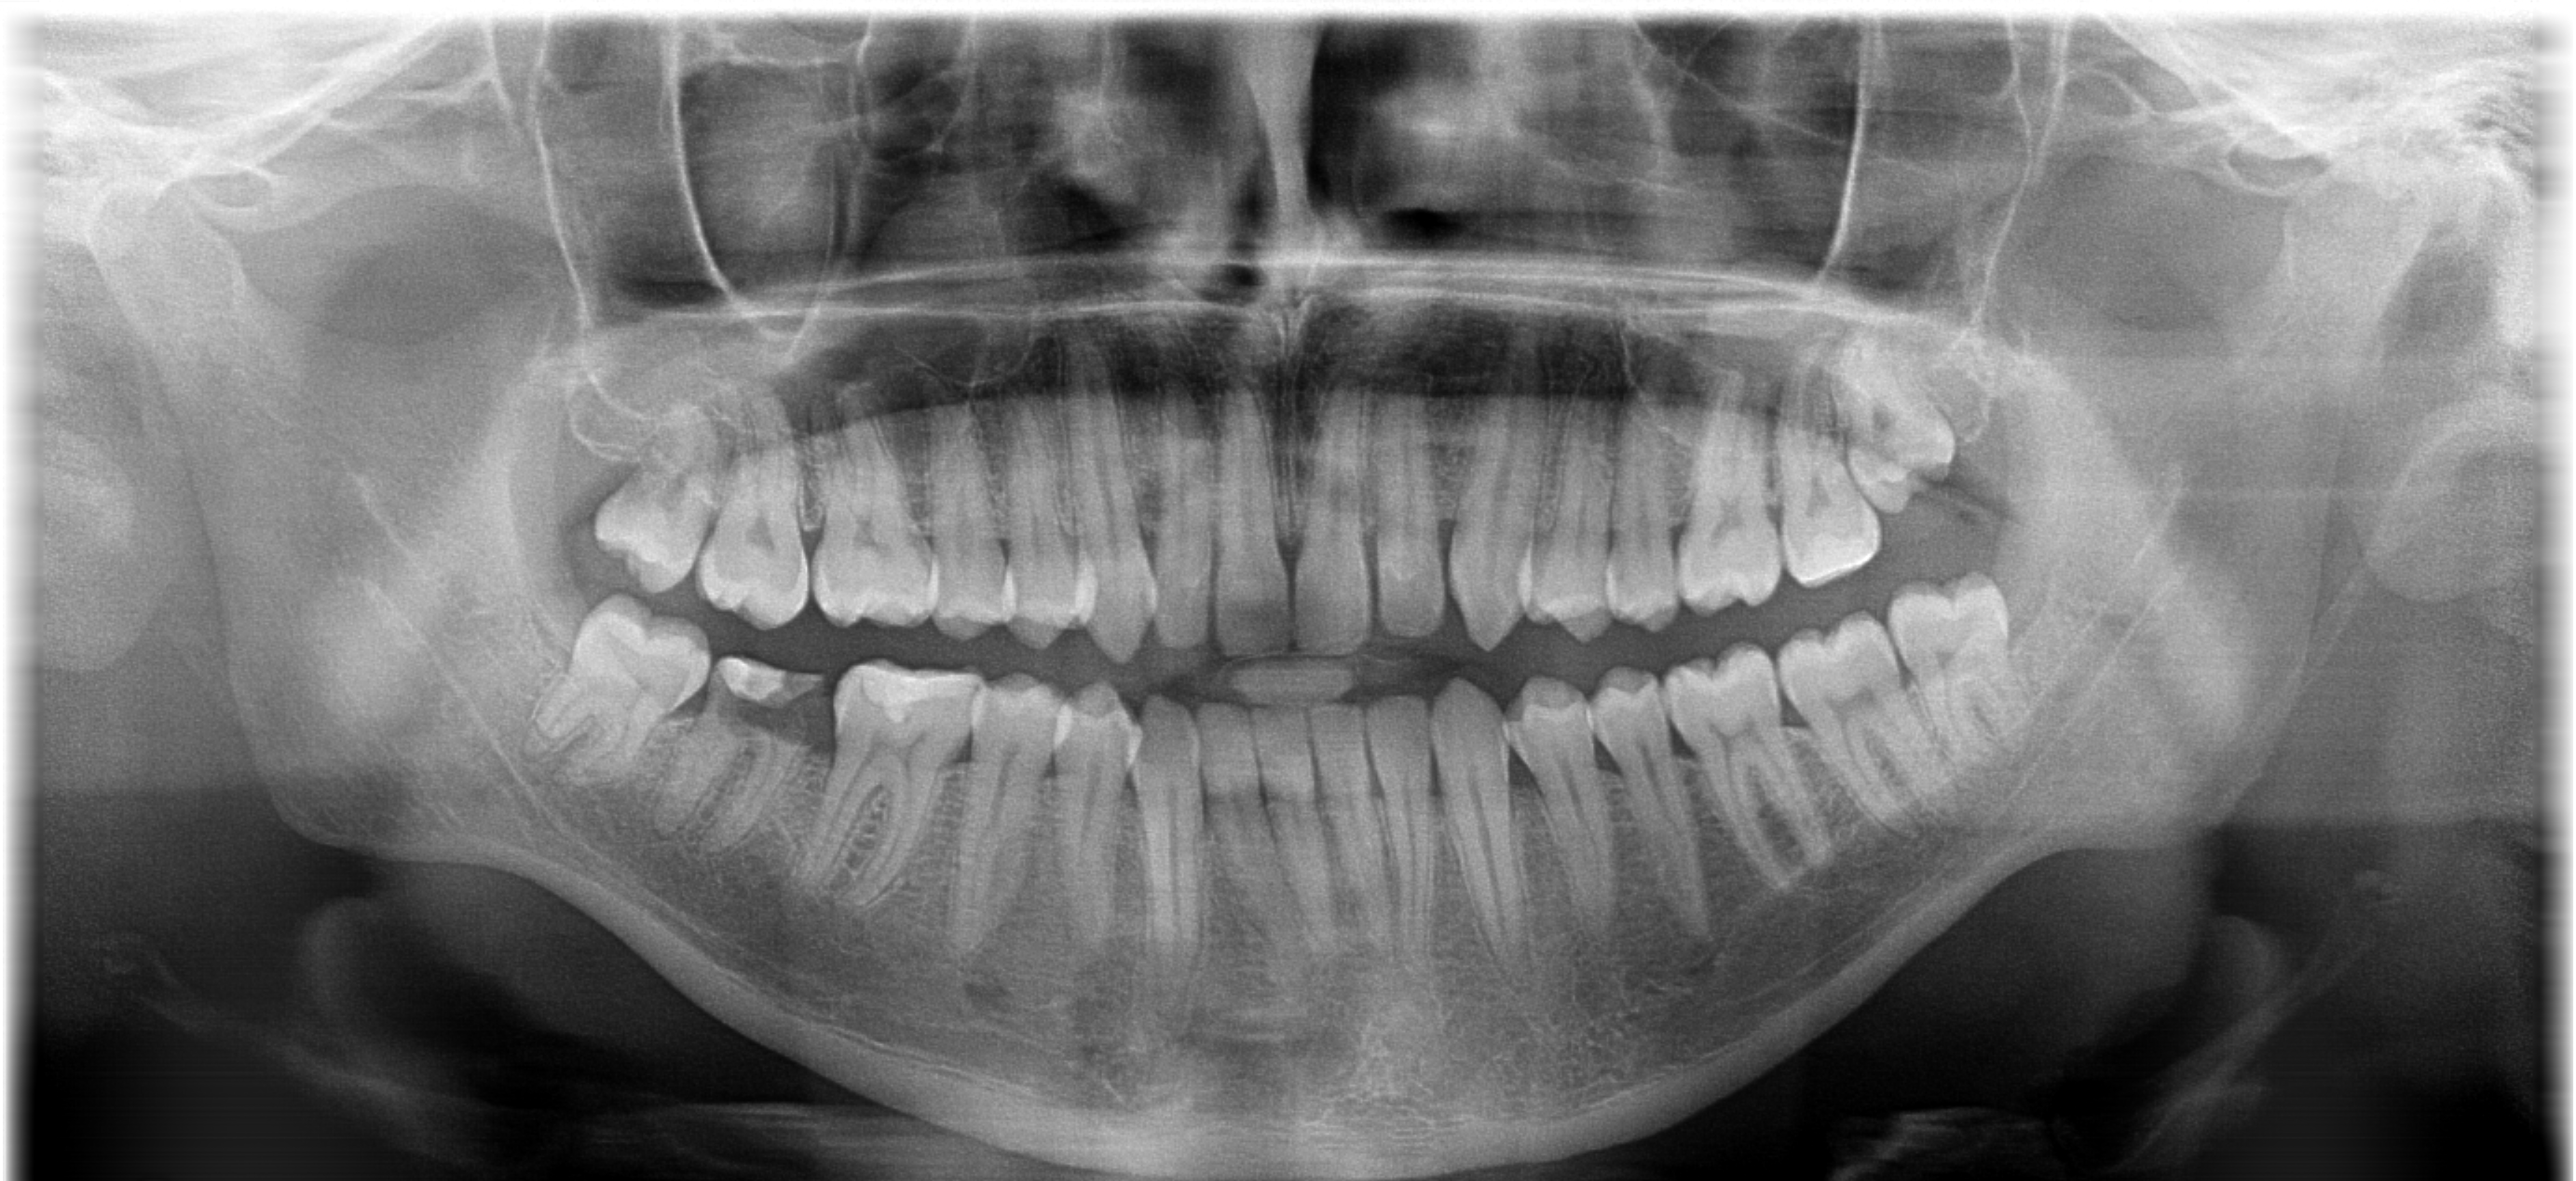caries: (698, 642, 853, 825)
cordal: (506, 578, 726, 811), (563, 393, 746, 595), (1870, 565, 2039, 780), (1830, 332, 1983, 532)
